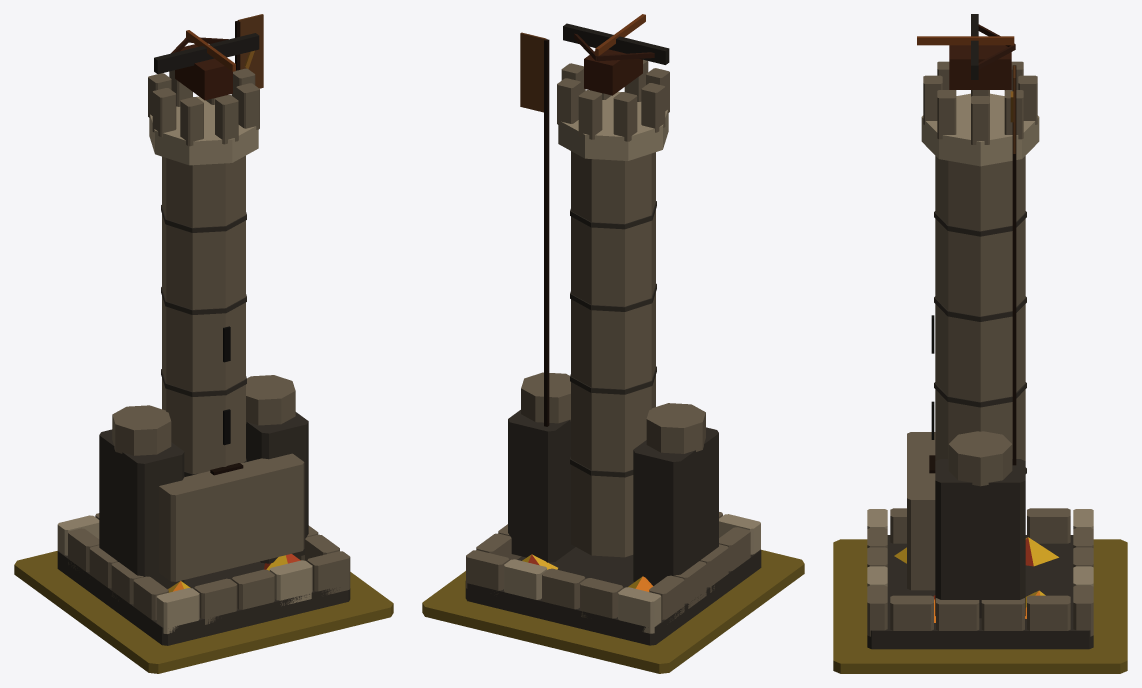
Rendered from bastion_t5.glb.
The picture shows the model from 3 angles, left to right: view 1: azimuth 30°, elevation 25°; view 2: azimuth 150°, elevation 25°; view 3: azimuth 270°, elevation 25°; orthographic projection. The views are drawn at different scales.
Visible parts, largest first — view 1: MMR | bastion | T05 Architecture.001, MMR | bastion | T05 Heavy Buttresses.001, MMR | bastion | Tier 05 Ground.001, MMR | bastion | T05 Banner Flag 1.001; view 2: MMR | bastion | T05 Architecture.001, MMR | bastion | T05 Heavy Buttresses.001, MMR | bastion | Tier 05 Ground.001, MMR | bastion | T05 Banner Flag 1.001; view 3: MMR | bastion | T05 Architecture.001, MMR | bastion | T05 Heavy Buttresses.001, MMR | bastion | Tier 05 Ground.001, MMR | bastion | T05 Autumn Dressing.001.
Boxes of the visible parts, left/top/right/bottom form: MMR | bastion | T05 Architecture.001: left=57, top=20, right=350, bottom=645; MMR | bastion | T05 Heavy Buttresses.001: left=99, top=375, right=308, bottom=588; MMR | bastion | Tier 05 Ground.001: left=14, top=551, right=393, bottom=673; MMR | bastion | T05 Banner Flag 1.001: left=238, top=14, right=263, bottom=88; MMR | bastion | T05 Architecture.001: left=465, top=14, right=761, bottom=645; MMR | bastion | T05 Heavy Buttresses.001: left=508, top=372, right=718, bottom=585; MMR | bastion | Tier 05 Ground.001: left=422, top=549, right=804, bottom=673; MMR | bastion | T05 Banner Flag 1.001: left=520, top=32, right=546, bottom=112; MMR | bastion | T05 Architecture.001: left=867, top=14, right=1093, bottom=649; MMR | bastion | T05 Heavy Buttresses.001: left=907, top=431, right=1025, bottom=618; MMR | bastion | Tier 05 Ground.001: left=833, top=539, right=1127, bottom=673; MMR | bastion | T05 Autumn Dressing.001: left=894, top=537, right=1058, bottom=622.
Size of the model in its own units: 1.3 by 2.8 by 1.3.
1 material, 1 textured.
